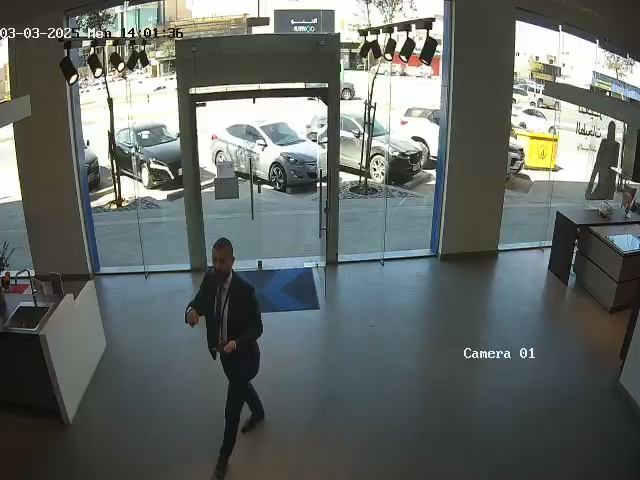employee: (184, 237, 266, 473)
